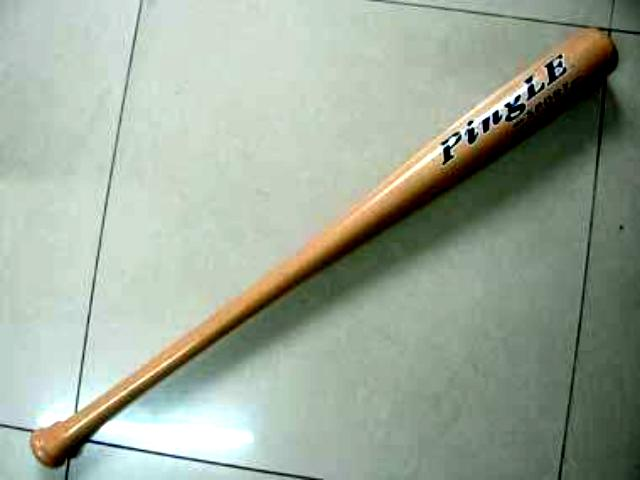baseball bat: (25, 18, 627, 476)
